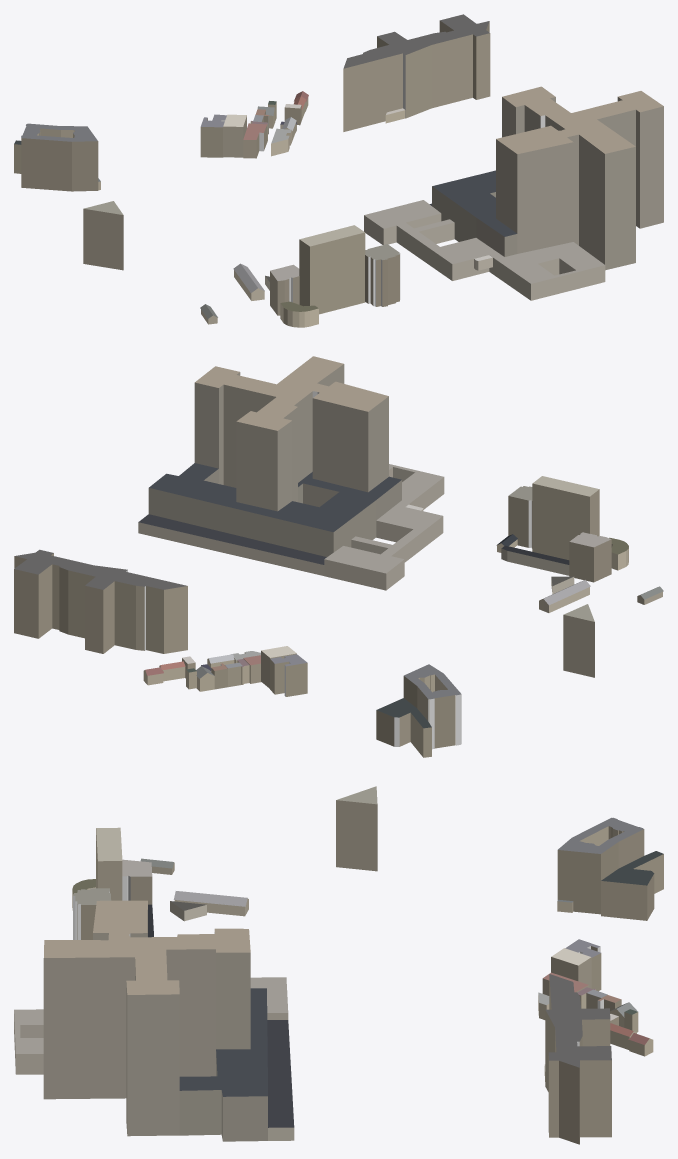
3 renders of one model, top to bottom at view 1: azimuth 30°, elevation 25°; view 2: azimuth 150°, elevation 25°; view 3: azimuth 270°, elevation 25°, orthographic. The views are drawn at different scales.
Visible parts, largest first — view 1: tuile; view 2: tuile; view 3: tuile.
Boxes of the visible parts, <box> form: tuile: <box>14,14,663,327</box>; tuile: <box>14,356,663,757</box>; tuile: <box>14,786,663,1144</box>.
Size of the model in its own units: 299 by 70.66 by 283.
